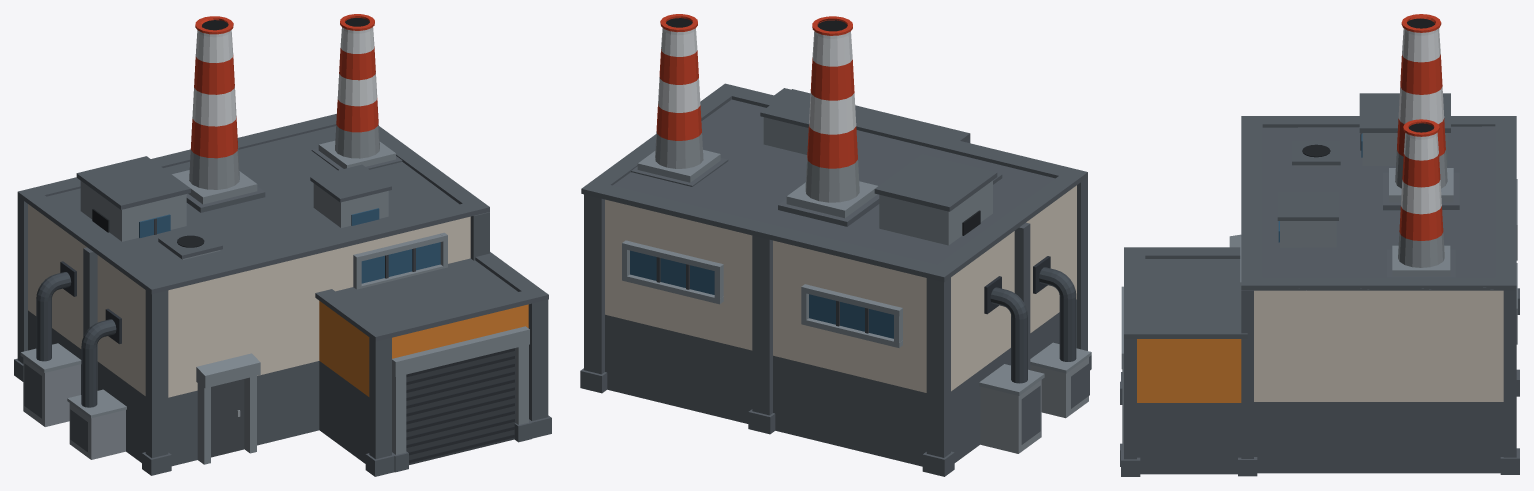
The model's file is factory b.fbx.
3 renders of one model, left to right at view 1: azimuth 30°, elevation 25°; view 2: azimuth 150°, elevation 25°; view 3: azimuth 270°, elevation 25°, orthographic. The views are drawn at different scales.
Parts seen in each view (by area): view 1: Factory_Building_B_Medium; view 2: Factory_Building_B_Medium; view 3: Factory_Building_B_Medium.
Part boxes in pixels (<box>): Factory_Building_B_Medium: <box>14,14,551,476</box>; Factory_Building_B_Medium: <box>580,14,1091,476</box>; Factory_Building_B_Medium: <box>1120,14,1519,476</box>.
Bounding box in the file's own units: 1101 × 980 × 990.
